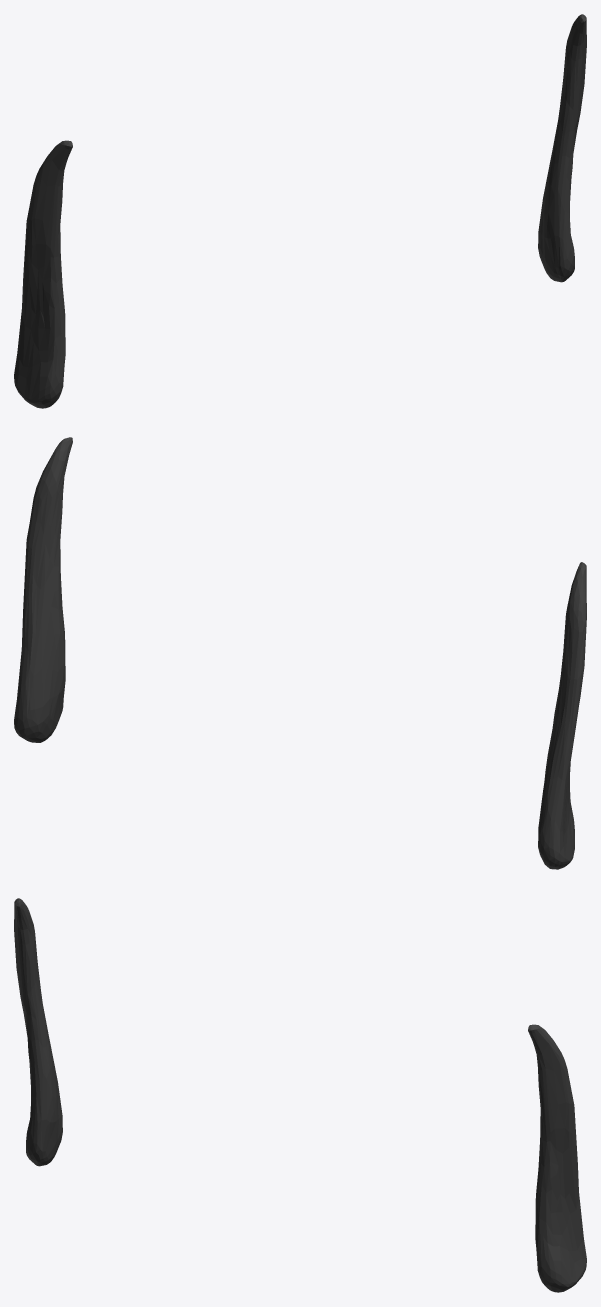
Rendered from m_abductor_digiti_I.glb.
3 renders of one model, top to bottom at view 1: azimuth 30°, elevation 25°; view 2: azimuth 150°, elevation 25°; view 3: azimuth 330°, elevation 25°, orthographic.
Visible parts, largest first — view 1: m_abductor_digiti_I; view 2: m_abductor_digiti_I; view 3: m_abductor_digiti_I.
Part boxes in pixels (x1,y1,x2,y2): m_abductor_digiti_I: [14, 14, 586, 408]; m_abductor_digiti_I: [14, 437, 586, 869]; m_abductor_digiti_I: [14, 898, 586, 1292].
Size of the model in its own units: 0.00239 by 0.00117 by 0.000333.
Materials: 1 (1 with a texture image).
